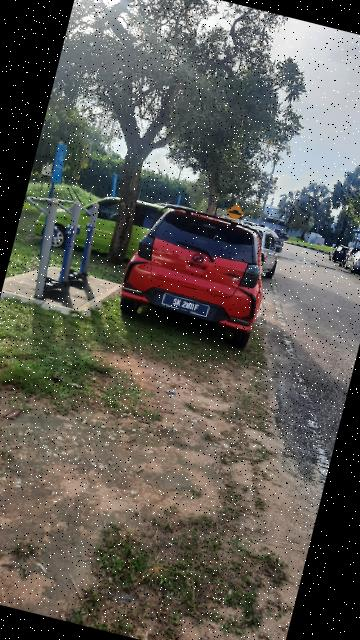License_Plate: (160, 288, 219, 323)
car: (108, 194, 289, 356)
